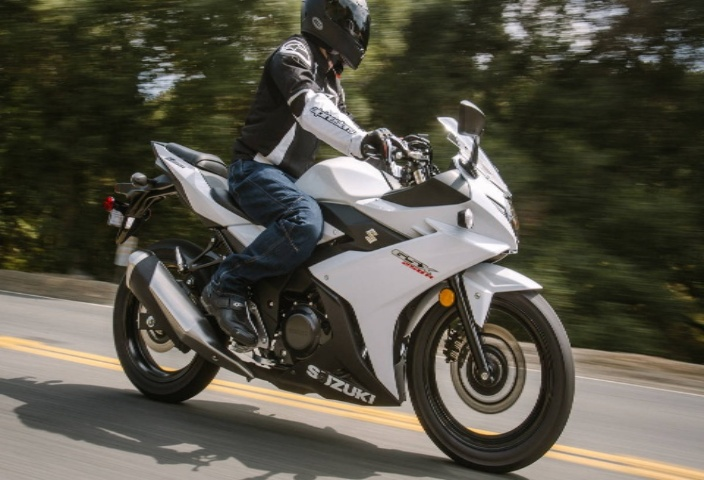motorcycle: (75, 106, 614, 474)
